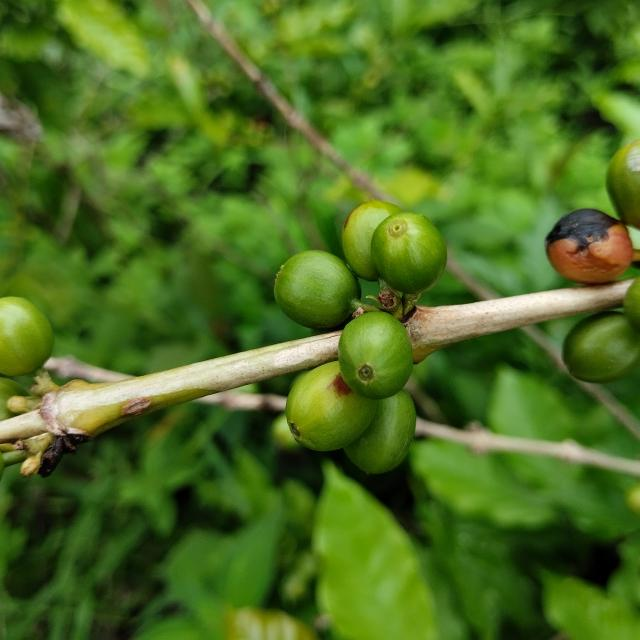green: (285, 361, 378, 451), (274, 250, 361, 329), (339, 311, 413, 400), (371, 211, 448, 294), (344, 390, 416, 474), (564, 311, 640, 383), (342, 200, 402, 281), (0, 297, 53, 376), (625, 277, 640, 332)
red: (546, 208, 635, 284)
